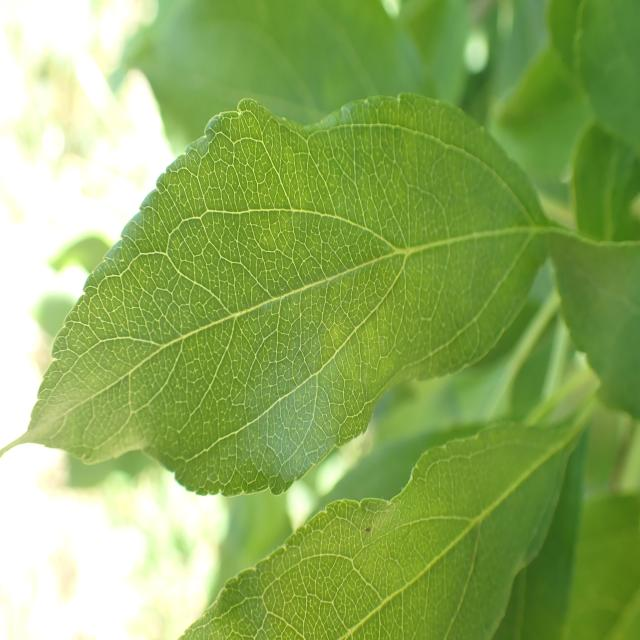healthy: (25, 92, 563, 497), (177, 406, 595, 640)
